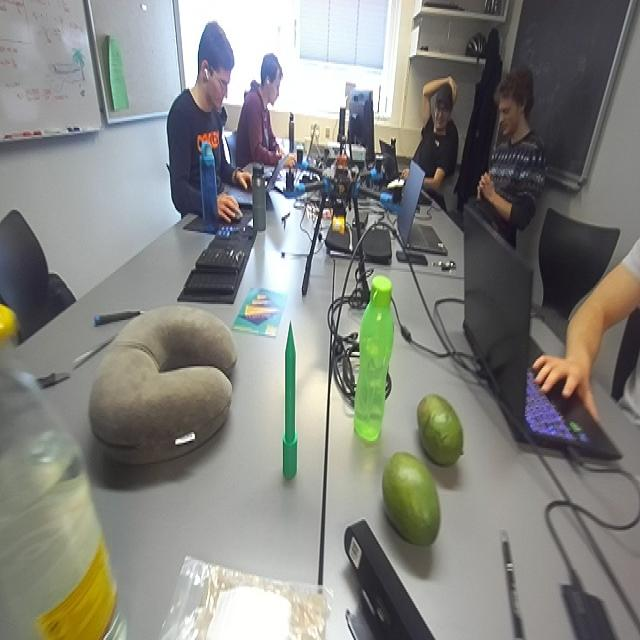probe: (283, 325, 298, 479)
